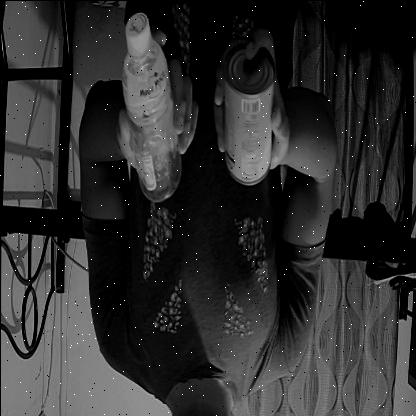Plastic Bottle: (108, 0, 189, 199)
